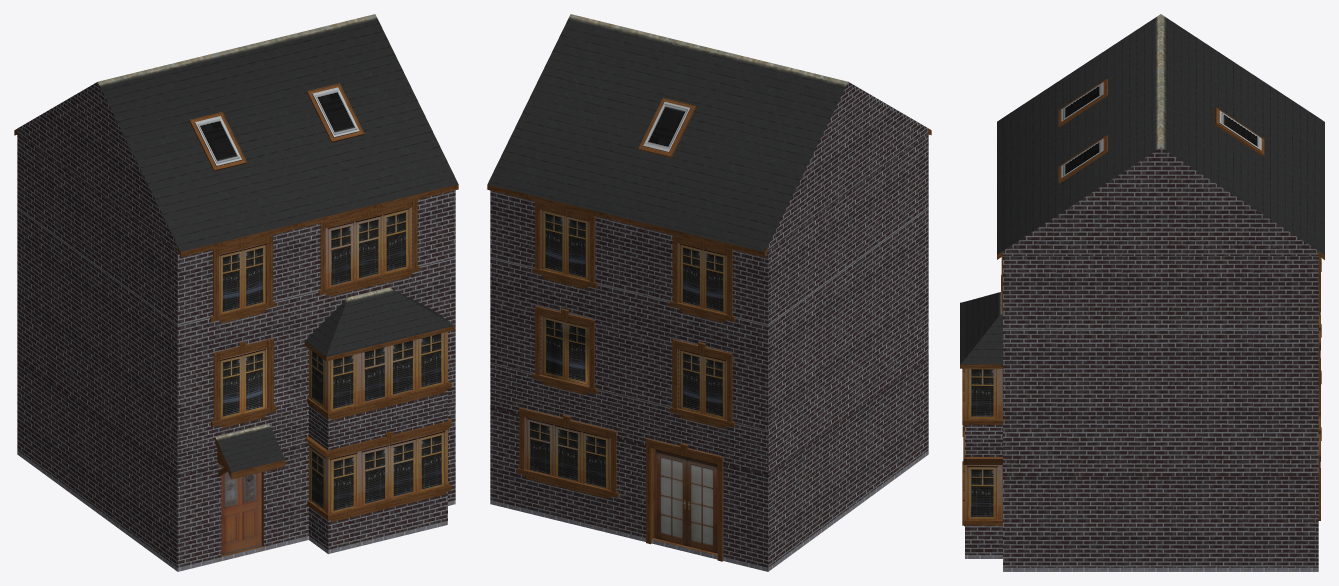
Rendered from modernterrace3story3cm.FBX.
3 renders of one model, left to right at view 1: azimuth 30°, elevation 25°; view 2: azimuth 150°, elevation 25°; view 3: azimuth 270°, elevation 25°, orthographic.
Parts seen in each view (by area): view 1: Box001; view 2: Box001; view 3: Box001.
Boxes of the visible parts, left/top/right/bottom form: Box001: left=14, top=14, right=458, bottom=571; Box001: left=487, top=14, right=931, bottom=571; Box001: left=960, top=14, right=1324, bottom=571.
Size of the model in its own units: 800 by 1188 by 925.
